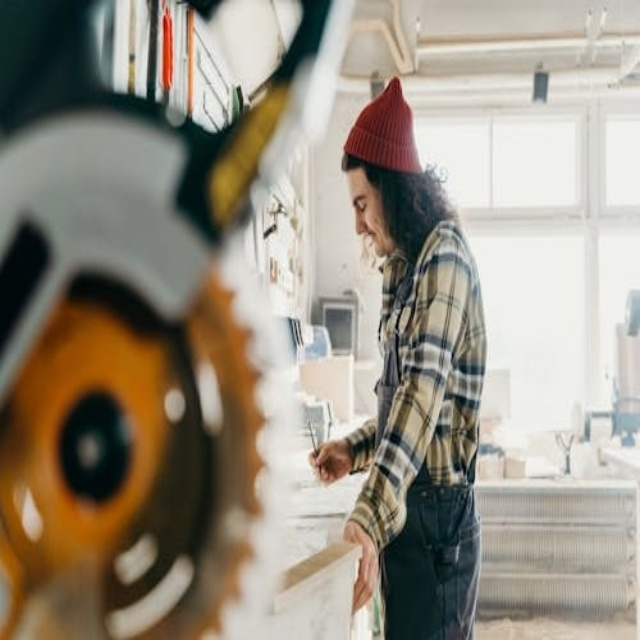Sin_gafas: (349, 190, 371, 217)
Sin_guantes: (335, 509, 385, 615), (306, 423, 355, 490)
Sin_mascara: (356, 219, 384, 252)
